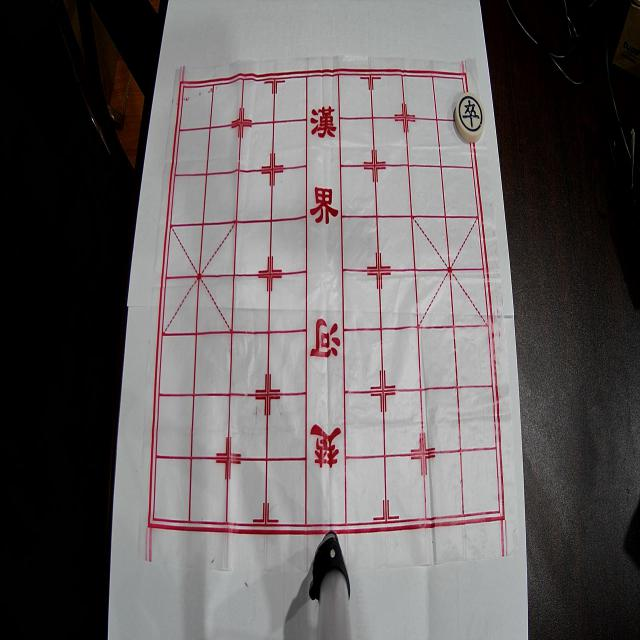black-soldier: (455, 92, 485, 143)
